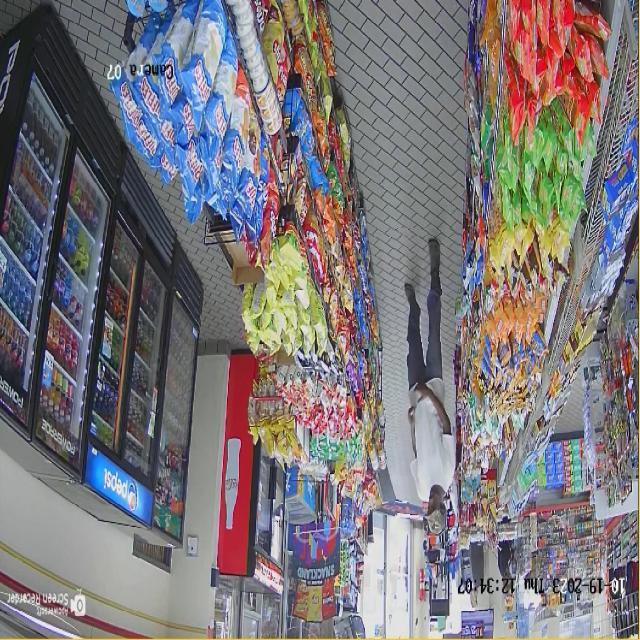Normal: (395, 228, 461, 546)
